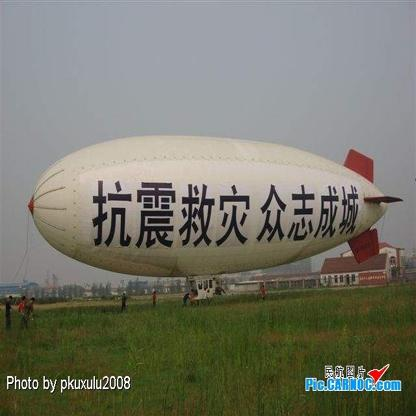Airship: (21, 130, 406, 301)
